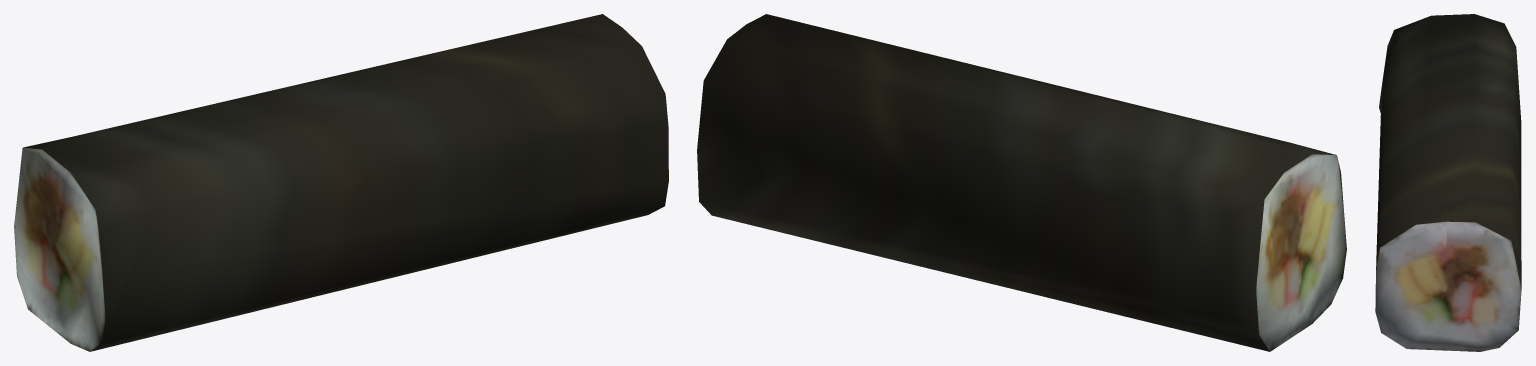
File: SushiRoll.glb
3 views of the same model, side by side, from view 1: azimuth 30°, elevation 25°; view 2: azimuth 150°, elevation 25°; view 3: azimuth 270°, elevation 25° (orthographic). The views are drawn at different scales.
Visible parts, largest first — view 1: SushiRoll; view 2: SushiRoll; view 3: SushiRoll.
Part boxes in pixels (<box>): SushiRoll: <box>14,14,668,351</box>; SushiRoll: <box>697,14,1346,351</box>; SushiRoll: <box>1375,14,1521,351</box>.
Size of the model in its own units: 0.3722 by 0.1098 by 0.1109.
Materials: 1 (1 with a texture image).
